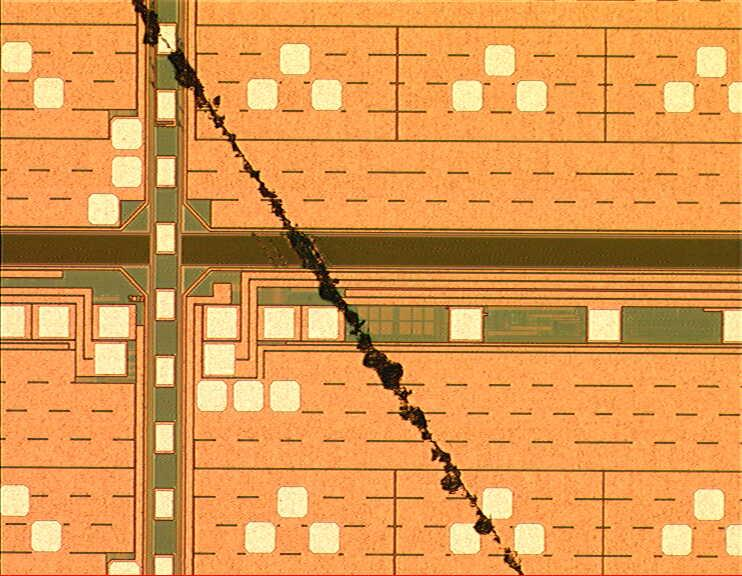SCRATCH: (122, 1, 534, 576)
